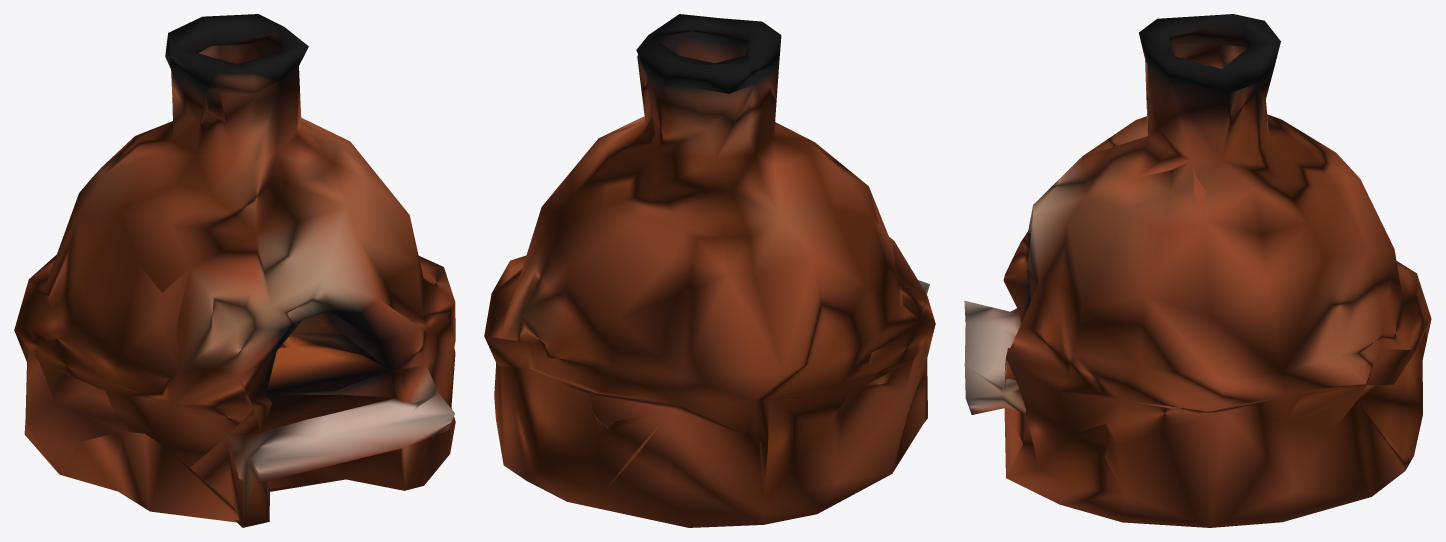
File: gen3d-bread-oven-lod1.glb
The picture shows the model from 3 angles, left to right: view 1: azimuth 30°, elevation 25°; view 2: azimuth 150°, elevation 25°; view 3: azimuth 270°, elevation 25°; orthographic projection.
Visible parts, largest first — view 1: part_0; view 2: part_0; view 3: part_0.
Part boxes in pixels (left/top/right/bottom): part_0: left=14, top=14, right=455, bottom=527; part_0: left=484, top=14, right=935, bottom=527; part_0: left=964, top=14, right=1431, bottom=527.
Size of the model in its own units: 1.07 by 0.9978 by 1.07.
